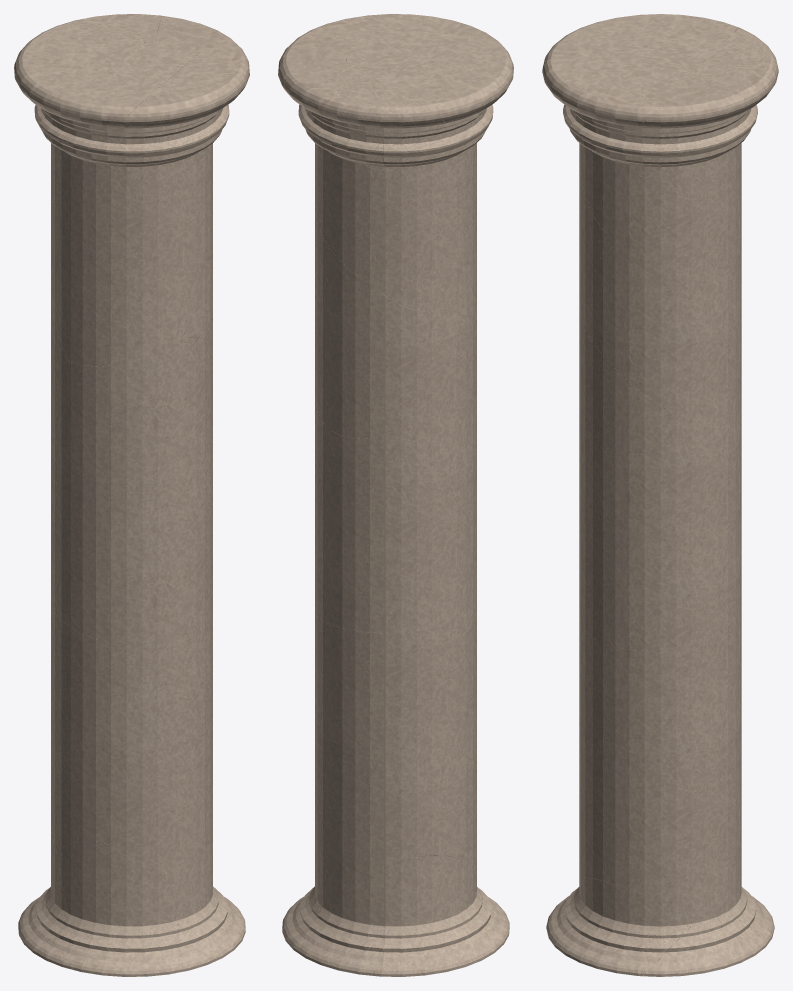
The model's file is columnXXXXX.fbx.
The picture shows the model from 3 angles, left to right: view 1: azimuth 30°, elevation 25°; view 2: azimuth 150°, elevation 25°; view 3: azimuth 270°, elevation 25°; orthographic projection.
Parts seen in each view (by area): view 1: Cylinder_cell.020, Cylinder_cell.010, Cylinder_cell, Cylinder_cell.015, Cylinder_cell.004, Cylinder_cell.012, Cylinder_cell.013, Cylinder_cell.009, Cylinder_cell.018, Cylinder_cell.003, Cylinder_cell.011, Cylinder_cell.019 (+1 smaller); view 2: Cylinder_cell.010, Cylinder_cell.020, Cylinder_cell.011, Cylinder_cell.003, Cylinder_cell.001, Cylinder_cell.015, Cylinder_cell.009, Cylinder_cell.007, Cylinder_cell, Cylinder_cell.004, Cylinder_cell.019, Cylinder_cell.018 (+5 smaller); view 3: Cylinder_cell.010, Cylinder_cell.020, Cylinder_cell.011, Cylinder_cell.004, Cylinder_cell.019, Cylinder_cell.013, Cylinder_cell.015, Cylinder_cell.009, Cylinder_cell.007, Cylinder_cell.006_cell.004, Cylinder_cell, Cylinder_cell.003 (+3 smaller).
Boxes of the visible parts, <box> form: Cylinder_cell.020: <box>51,337,212,648</box>; Cylinder_cell.010: <box>51,600,212,898</box>; Cylinder_cell: <box>51,137,211,366</box>; Cylinder_cell.015: <box>14,42,199,144</box>; Cylinder_cell.004: <box>111,43,249,215</box>; Cylinder_cell.012: <box>58,841,183,972</box>; Cylinder_cell.013: <box>177,859,245,971</box>; Cylinder_cell.009: <box>18,14,161,114</box>; Cylinder_cell.018: <box>35,919,180,976</box>; Cylinder_cell.003: <box>18,826,66,953</box>; Cylinder_cell.011: <box>51,212,212,372</box>; Cylinder_cell.019: <box>151,15,236,52</box>; Cylinder_cell.010: <box>315,608,476,917</box>; Cylinder_cell.020: <box>315,337,476,633</box>; Cylinder_cell.011: <box>315,210,470,438</box>; Cylinder_cell.003: <box>310,855,496,976</box>; Cylinder_cell.001: <box>371,137,474,311</box>; Cylinder_cell.015: <box>346,35,513,143</box>; Cylinder_cell.009: <box>284,61,457,154</box>; Cylinder_cell.007: <box>315,153,395,283</box>; Cylinder_cell: <box>444,105,493,351</box>; Cylinder_cell.004: <box>308,14,491,60</box>; Cylinder_cell.019: <box>278,31,392,171</box>; Cylinder_cell.018: <box>474,897,509,950</box>; Cylinder_cell.010: <box>579,602,741,918</box>; Cylinder_cell.020: <box>579,315,741,650</box>; Cylinder_cell.011: <box>580,225,741,427</box>; Cylinder_cell.004: <box>542,39,643,238</box>; Cylinder_cell.019: <box>641,78,749,227</box>; Cylinder_cell.013: <box>546,878,697,976</box>; Cylinder_cell.015: <box>562,14,738,89</box>; Cylinder_cell.009: <box>687,27,778,136</box>; Cylinder_cell.007: <box>673,143,741,244</box>; Cylinder_cell.006_cell.004: <box>662,917,731,976</box>; Cylinder_cell: <box>579,160,610,315</box>; Cylinder_cell.003: <box>735,861,774,943</box>.
Size of the model in its own units: 521 by 2112 by 521.
